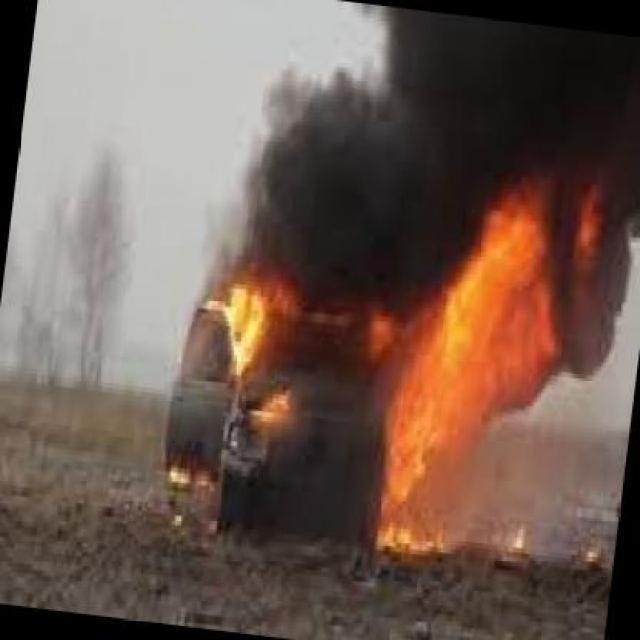Fire: (388, 185, 608, 556), (203, 280, 310, 433)
Smoke: (230, 0, 638, 188), (237, 196, 466, 283), (558, 179, 640, 375)
